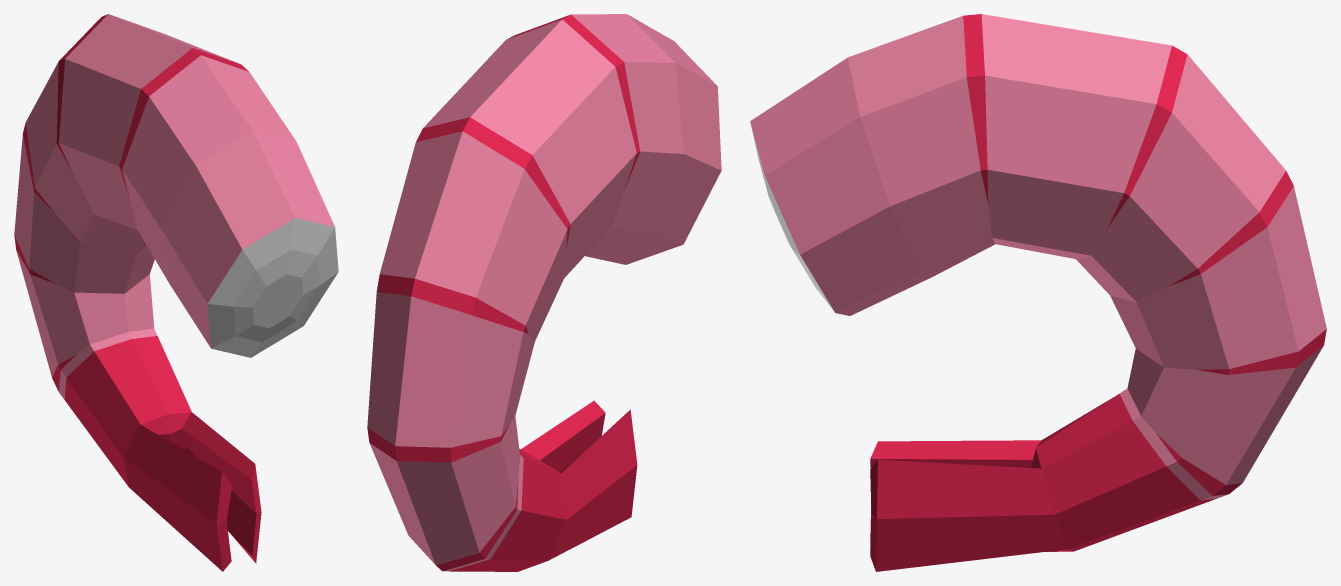
File: Shrimp_01.obj
3 views of the same model, side by side, from view 1: azimuth 30°, elevation 25°; view 2: azimuth 150°, elevation 25°; view 3: azimuth 270°, elevation 25° (orthographic). The views are drawn at different scales.
Parts seen in each view (by area): view 1: Shrimp_Circle.007; view 2: Shrimp_Circle.007; view 3: Shrimp_Circle.007.
Boxes of the visible parts, <box> form: Shrimp_Circle.007: <box>14,14,338,571</box>; Shrimp_Circle.007: <box>367,14,721,571</box>; Shrimp_Circle.007: <box>750,14,1326,571</box>.
Size of the model in its own units: 3.16 by 10.33 by 9.84.
